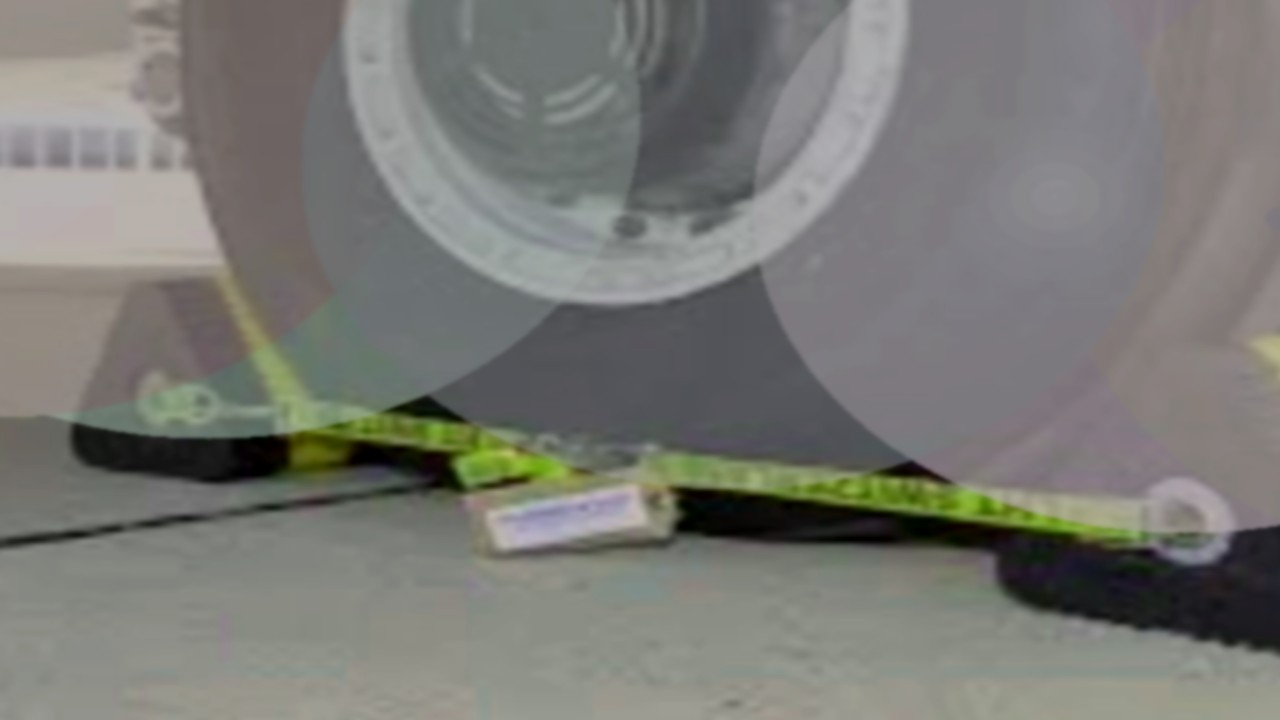chock: (983, 313, 1280, 658), (64, 271, 306, 478)
wheel: (126, 0, 1280, 498)
